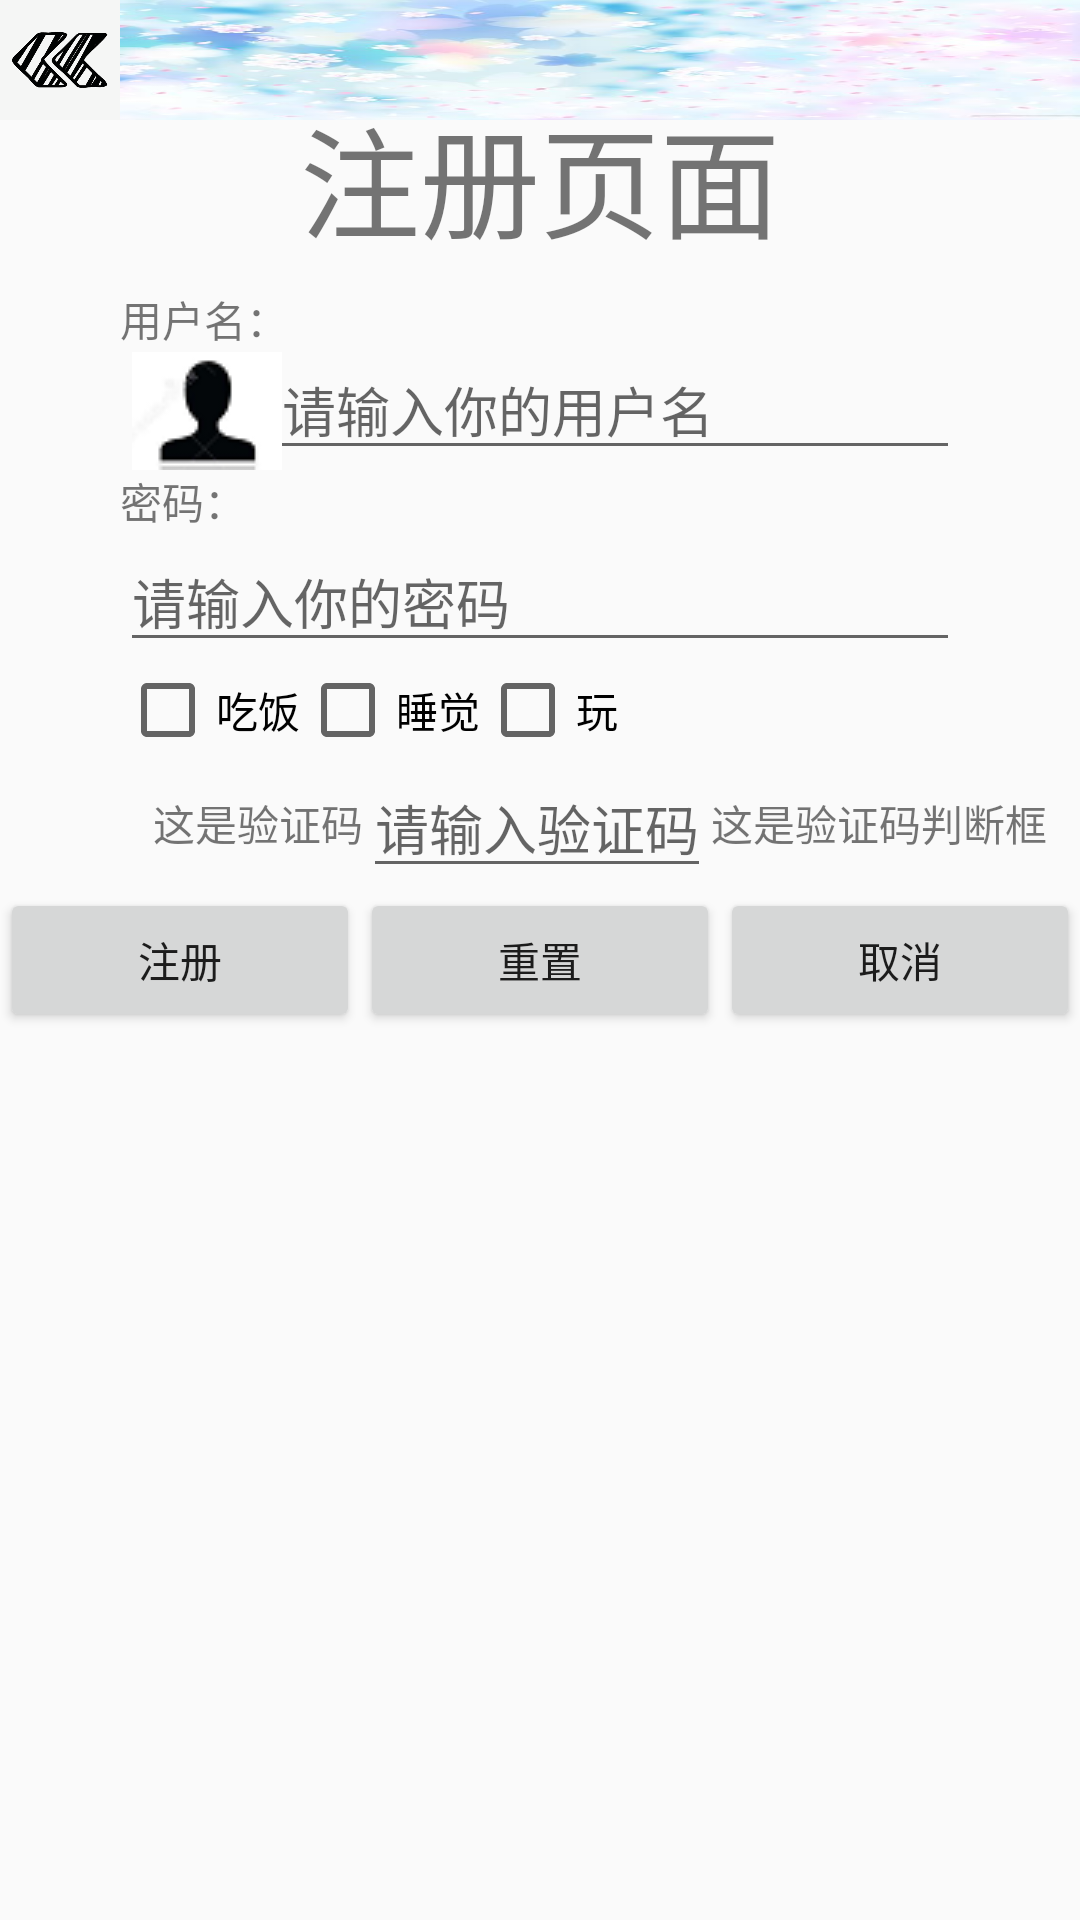

Icons on this 1080px×1920px Android screen, each with its box as box=[x1, y1, x2, y2]:
back: box=[12, 32, 107, 88]
